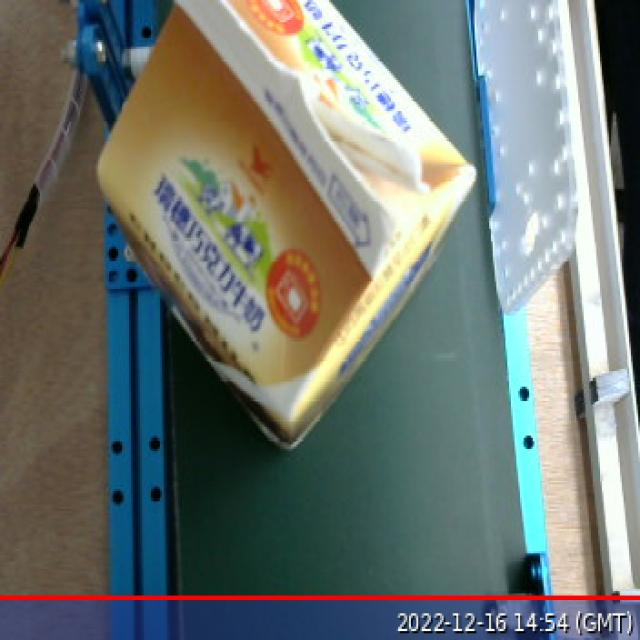non_white_jug: (78, 0, 490, 471)
